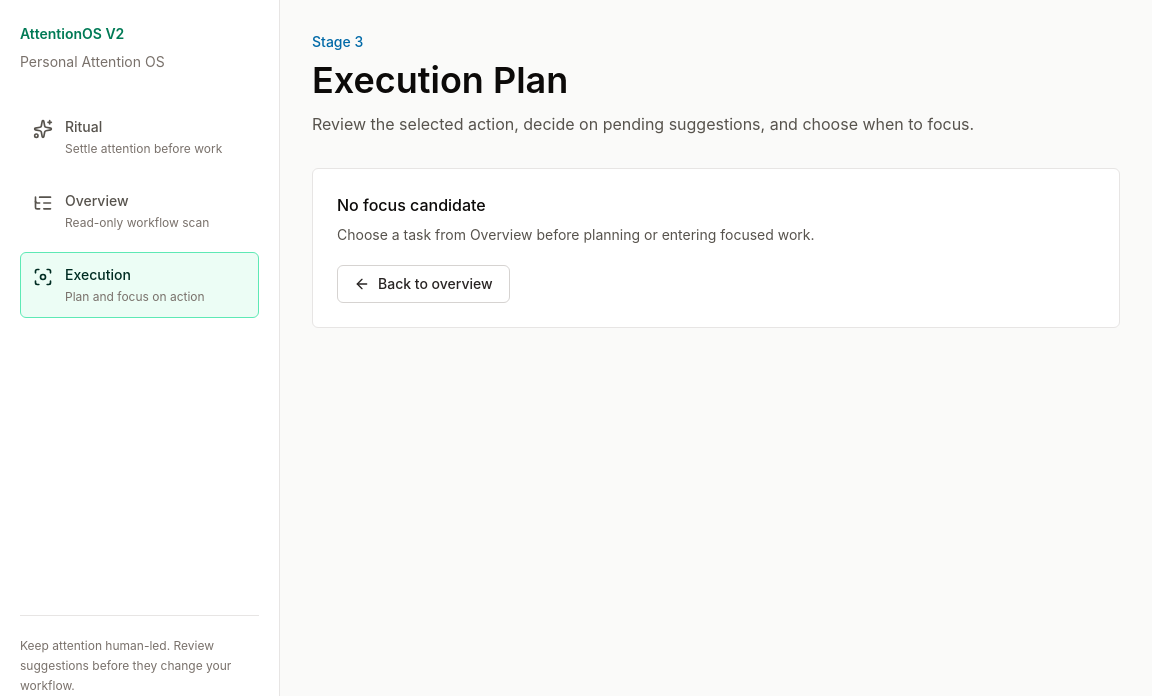
ExecutionPage task workflow › shows an empty execution state when no task is active
Expected: the text "No focus candidate" is shown, [337,195,486,215]
Step 1. Click the button "Back to overview" → x=423, y=284, box [337,265,510,303]
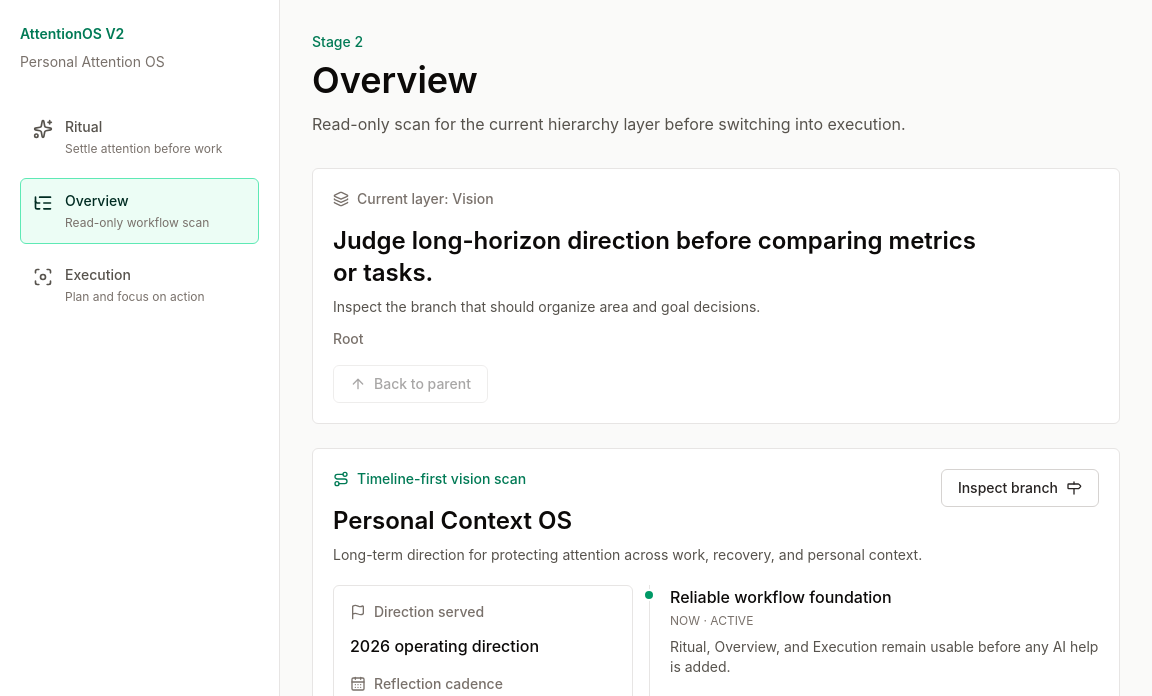
Expected: the heading "Overview" is shown, [312,58,478,102]
